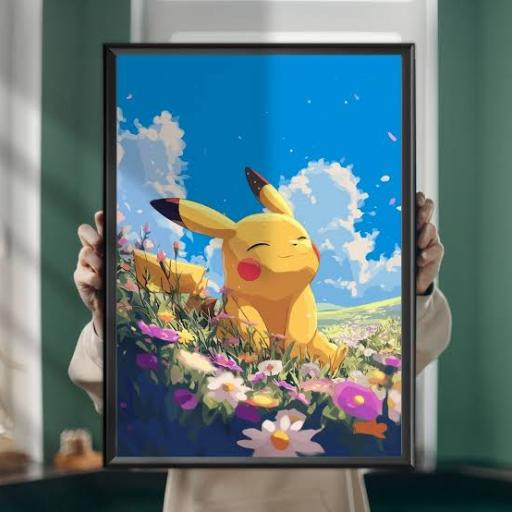Pikachu: (131, 168, 348, 375)
